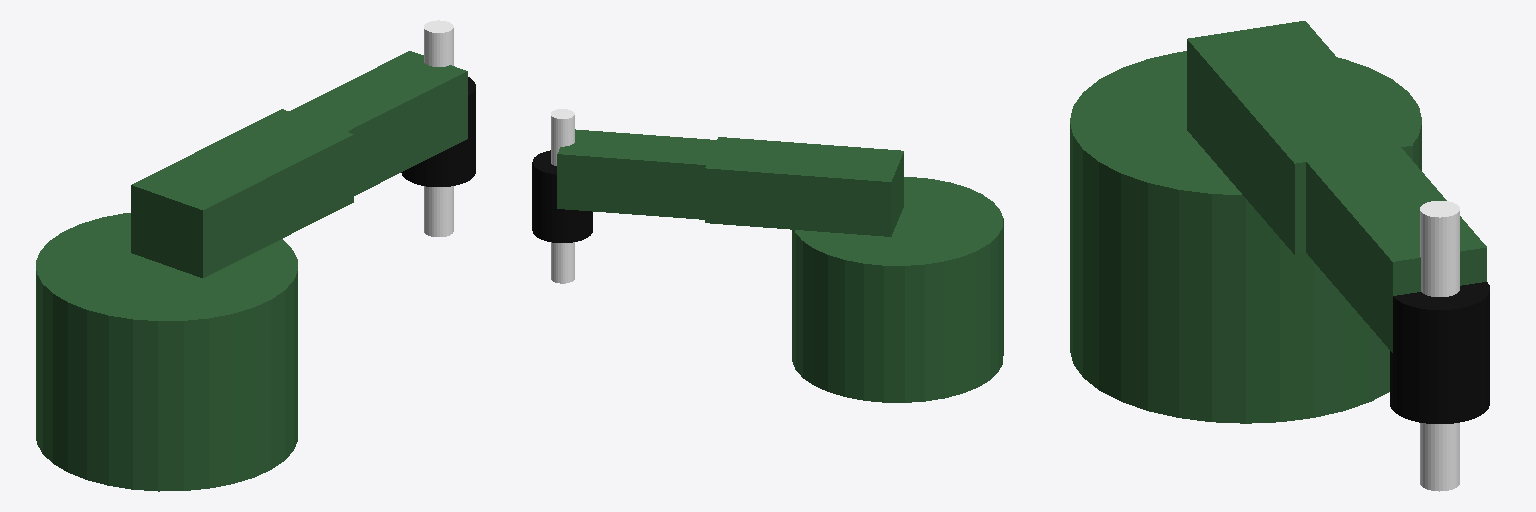
robot.urdf — icebot:
<?xml version="1.0"?>
<robot name="icebot">

  <link name="base_link">
    <visual>
      <origin xyz="0 0 0.05" rpy="0 0 0"/>
      <geometry>
        <cylinder length="0.1" radius="0.07"/>
      </geometry>
      <material name="green">
        <color rgba="0.251 0.451 0.278 1.0"/>
      </material>
    </visual>
  </link>

  <link name="link_1">
    <visual>
      <origin xyz="0.0625 0 0.02" rpy="0 0 0"/>
      <geometry>
        <box size="0.125 0.05 0.04"/>
      </geometry>
      <material name="green">
        <color rgba="0.251 0.451 0.278 1.0"/>
      </material>
    </visual>
  </link>

  <link name="link_2">
    <visual>
      <origin xyz="0.05 0 0.02" rpy="0 0 0"/>
      <geometry>
        <box size="0.100 0.04 0.04"/>
      </geometry>
      <material name="green">
        <color rgba="0.251 0.451 0.278 1.0"/>
      </material>
    </visual>
  </link>

  <link name="link_z_rot">
    <visual>
      <origin xyz="0 0 0" rpy="0 0 0"/>
      <geometry>
        <cylinder length="0.05" radius="0.02"/>
      </geometry>
      <material name="black">
        <color rgba="0.1 0.1 0.1 1.0"/>
      </material>
    </visual>
  </link>

  <link name="end_effector">
    <visual>
      <origin xyz="0 0 -0.06" rpy="0 0 0"/>
      <geometry>
        <cylinder length="0.12" radius="0.008"/>
      </geometry>
      <material name="white">
        <color rgba="1.0 1.0 1.0 1.0"/>
      </material>
    </visual>
    <collision>
      <origin xyz="0 0 -0.06" rpy="0 0 0"/>
      <geometry>
        <cylinder length="0.12" radius="0.008"/>
      </geometry>
    </collision>
    <inertial>
      <mass value="0.03"/>
      <origin xyz="0 0 -0.06" rpy="0 0 0"/>
      <inertia ixx="0.00003" ixy="0.0" ixz="0.0" iyy="0.00003" iyz="0.0" izz="0.000001"/>
    </inertial>
  </link>

  <link name="tool0"/>

  <!--
    TCP (tool0) measurement procedure — calibration-field Phase 0.
    The exact tcp_joint offset depends on the PHYSICALLY MOUNTED pen tip and
    is OUT OF REPO SCOPE: this file keeps the current value (0 0 -0.12) as
    BASELINE until the real tip is measured. Do NOT change this origin blindly.

    Procedure (see docs/execution/robot/pen-tip-procedure.md):
      1. Mount the fabricated pen tip (cylinder with 8 mm rod hole + funnel
         for the pen) on the prismatic rod.
      2. Measure the REAL length from the end_effector datum to the pen tip
         contact point with a ruler/caliper (meters, 3+ decimals).
      3. Update this origin to the measured offset, e.g. xyz="0 0 -0.145".
      4. Verify FK: start the backend, POST /api/v1/scene/from-fk with the
         current joint angles and confirm the TCP position readout.
    Any change here changes the URDF hash -> a NEW robot_id -> any previously
    calibrated field is invalidated (correct behavior, calibration-field CF-5).
  -->
  <joint name="tcp_joint" type="fixed">
    <parent link="end_effector"/>
    <child link="tool0"/>
    <origin xyz="0 0 -0.12" rpy="0 0 0"/>
  </joint>

  <!--
    Physical home offsets (measured from robot prototype):
    - axis_0: +20° (~0.3491 rad) Z — base not perfectly aligned with world X
    - axis_1: centered (±90° range); q1=0 is the physical midpoint
  -->
  <joint name="axis_0" type="revolute">
    <parent link="base_link"/>
    <child link="link_1"/>
    <origin xyz="0 0 0.1" rpy="0 0 0.3491"/>
    <axis xyz="0 0 1"/>
    <limit lower="-1.5708" upper="1.5708" effort="10.0" velocity="1.0"/> 
  </joint>

  <joint name="axis_1" type="revolute">
    <parent link="link_1"/>
    <child link="link_2"/>
    <origin xyz="0.125 0 0" rpy="0 0 0"/> 
    <axis xyz="0 0 1"/>
    <limit lower="-2.0944" upper="2.0944" effort="10.0" velocity="1.0"/> 
  </joint>

  <joint name="axis_2" type="revolute">
    <parent link="link_2"/>
    <child link="link_z_rot"/>
    <origin xyz="0.100 0 0" rpy="0 0 0"/> 
    <axis xyz="0 0 1"/>
    <limit lower="-3.1416" upper="3.1416" effort="5.0" velocity="2.0"/> 
  </joint>

  <joint name="axis_3" type="prismatic">
    <parent link="link_z_rot"/>
    <child link="end_effector"/>
    <origin xyz="0 0 0.06" rpy="0 0 0"/>
    <axis xyz="0 0 -1"/>
    <limit lower="0.0" upper="0.06" effort="12.0" velocity="0.5"/>
  </joint>

</robot>

--- Facts derived from the render (not from the file) ---
Views: 3 orthographic renders of the robot side by side, from view 1: azimuth 30°, elevation 25°; view 2: azimuth 150°, elevation 25°; view 3: azimuth 270°, elevation 25°.
Model icebot with 6 links and 5 joints (3 revolute, 1 prismatic, 1 fixed), rooted at base_link, posed all joints at 0.
Visible links, largest first — view 1: base_link, link_1, link_2, end_effector, link_z_rot; view 2: base_link, link_1, link_2, link_z_rot, end_effector; view 3: base_link, link_1, link_2, link_z_rot, end_effector.
Link boxes in pixels (<box>): base_link: <box>36,213,297,491</box>; link_1: <box>131,109,353,277</box>; link_2: <box>289,51,467,195</box>; end_effector: <box>424,20,453,236</box>; link_z_rot: <box>401,77,475,186</box>; base_link: <box>792,177,1003,402</box>; link_1: <box>705,137,903,236</box>; link_2: <box>557,129,716,219</box>; link_z_rot: <box>532,150,592,242</box>; end_effector: <box>551,109,574,283</box>; base_link: <box>1070,51,1421,423</box>; link_1: <box>1187,21,1412,254</box>; link_2: <box>1306,147,1486,352</box>; link_z_rot: <box>1390,282,1489,423</box>; end_effector: <box>1420,201,1459,491</box>.
Bounding box of the posed robot: 0.3014 × 0.1669 × 0.16 m (x, y, z).
Geometry: primitives only (box / cylinder / sphere), no mesh files.
